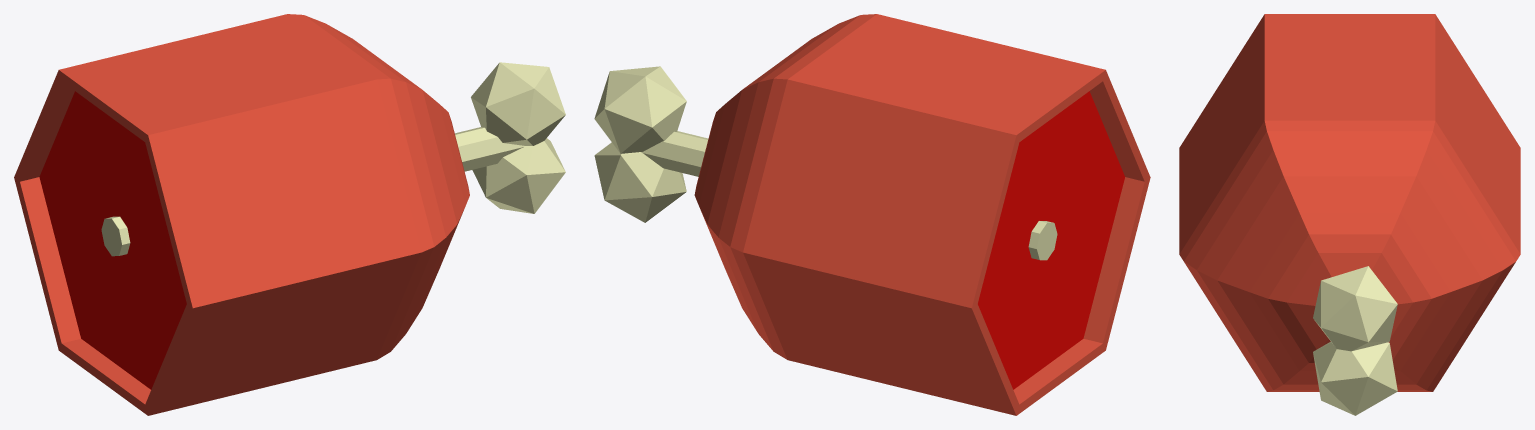
File: but.fbx
3 renders of one model, left to right at view 1: azimuth 30°, elevation 25°; view 2: azimuth 150°, elevation 25°; view 3: azimuth 270°, elevation 25°, orthographic. The views are drawn at different scales.
Parts seen in each view (by area): view 1: Cylinder, Icosphere.001; view 2: Cylinder, Icosphere.001; view 3: Cylinder, Icosphere.001.
Boxes of the visible parts, x1=… form: Cylinder: x1=14, y1=14, x2=469, y2=415; Icosphere.001: x1=101, y1=62, x2=565, y2=256; Cylinder: x1=694, y1=14, x2=1150, y2=415; Icosphere.001: x1=594, y1=66, x2=1057, y2=260; Cylinder: x1=1179, y1=14, x2=1520, y2=391; Icosphere.001: x1=1313, y1=266, x2=1397, y2=415.
Bounding box in the file's own units: 128 × 75.23 × 86.87.
